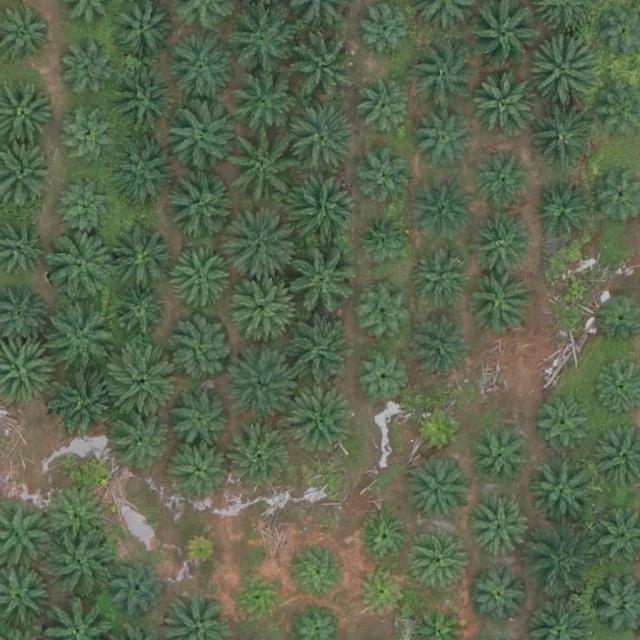Healthy: (42, 295, 113, 366), (526, 455, 597, 525), (290, 102, 360, 173), (287, 177, 358, 247), (283, 249, 353, 320), (282, 321, 352, 392), (285, 386, 355, 457), (224, 422, 294, 493), (229, 352, 299, 423), (229, 214, 299, 285), (233, 132, 303, 203), (162, 105, 233, 175), (161, 170, 231, 241), (108, 225, 178, 296), (44, 232, 114, 303), (50, 369, 121, 439), (532, 37, 602, 108), (476, 71, 546, 142), (227, 62, 297, 133), (227, 5, 297, 76), (109, 65, 179, 136), (529, 109, 599, 179), (527, 532, 597, 602), (229, 273, 299, 343), (110, 138, 180, 208), (108, 343, 178, 413), (47, 529, 117, 599), (407, 40, 477, 110), (289, 28, 359, 98), (169, 35, 239, 105), (472, 216, 535, 279), (470, 423, 533, 486), (470, 492, 533, 555), (410, 246, 473, 309), (105, 412, 168, 475), (470, 273, 532, 336), (466, 569, 528, 632), (415, 104, 477, 167), (411, 314, 473, 377), (407, 462, 469, 525), (406, 529, 468, 592), (170, 249, 232, 312), (170, 319, 232, 382), (171, 388, 233, 451), (47, 485, 109, 548), (412, 185, 474, 247), (171, 441, 233, 503), (293, 544, 348, 599), (354, 564, 409, 619), (359, 509, 414, 564), (536, 396, 591, 451), (476, 151, 531, 206), (356, 349, 411, 404), (359, 282, 414, 337), (357, 214, 412, 269), (357, 149, 412, 204), (111, 286, 166, 341), (59, 179, 114, 234), (114, 560, 169, 615), (359, 79, 414, 134), (64, 45, 119, 100), (60, 111, 115, 166), (231, 571, 285, 626), (536, 186, 590, 241)
Yellow: (413, 402, 468, 457), (179, 533, 219, 573)
